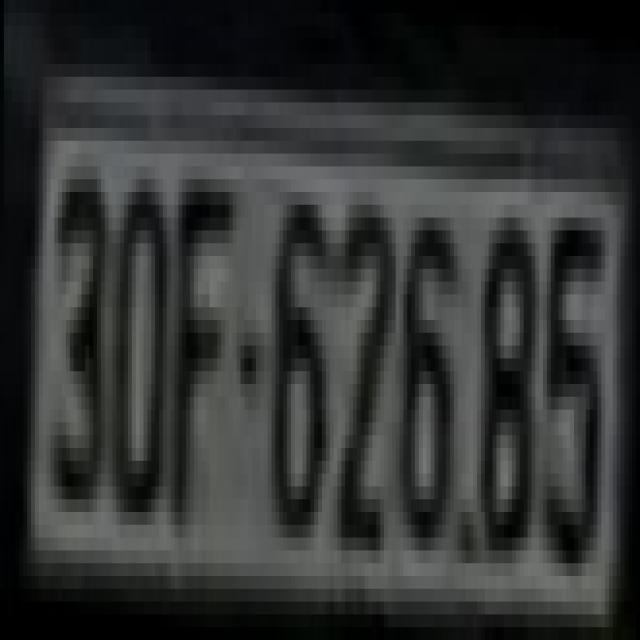0: (112, 180, 167, 524)
2: (337, 204, 392, 550)
3: (51, 179, 108, 512)
5: (543, 217, 605, 564)
6: (272, 192, 330, 538), (399, 204, 454, 550)
8: (480, 218, 536, 550)
F: (175, 179, 232, 538)
